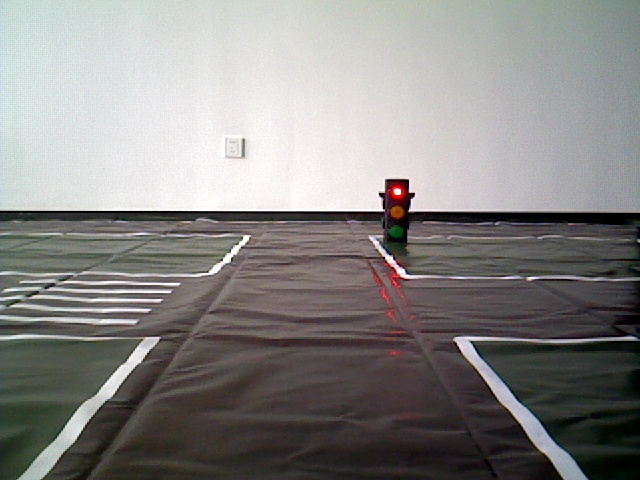red: (385, 180, 409, 242)
